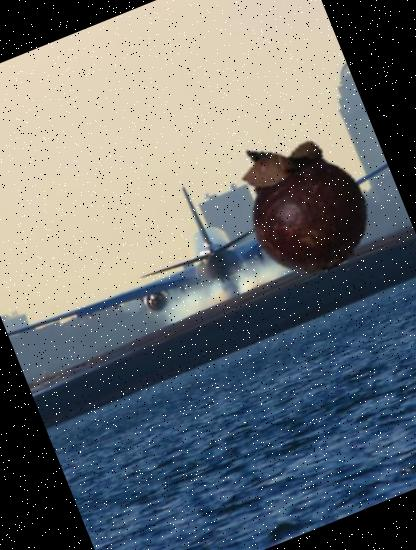Mangostan: (209, 107, 398, 296)
